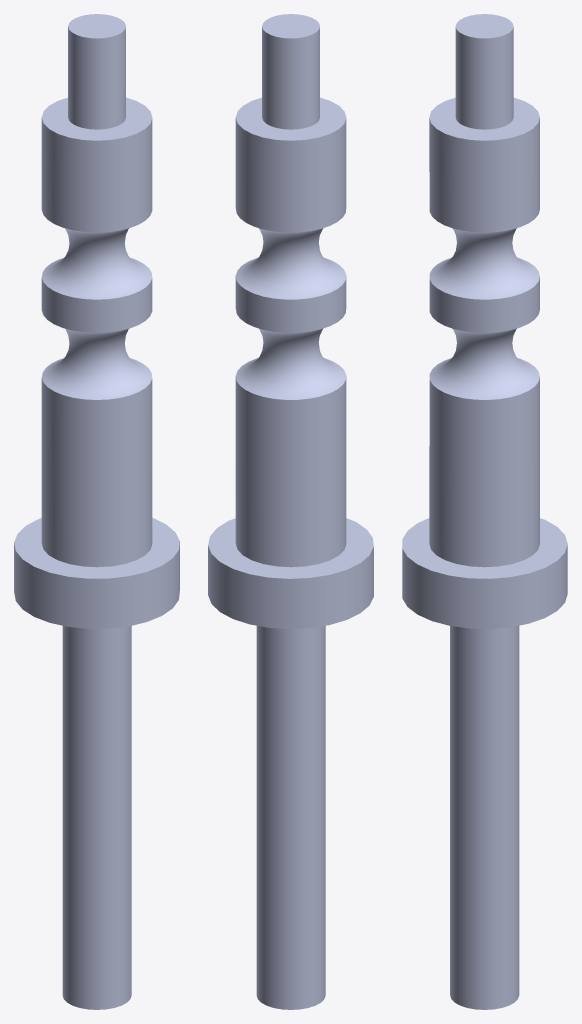
File: Post-Dual Ring 8-32 Thread at Bottom, 6-32 at top (02-4423).fbx
3 views of the same model, side by side, from view 1: azimuth 30°, elevation 25°; view 2: azimuth 150°, elevation 25°; view 3: azimuth 270°, elevation 25° (orthographic).
Visible parts, largest first — view 1: Post-Dual Ring 8-32 Thread at Bottom, 6-32 at top (02-4423); view 2: Post-Dual Ring 8-32 Thread at Bottom, 6-32 at top (02-4423); view 3: Post-Dual Ring 8-32 Thread at Bottom, 6-32 at top (02-4423).
Part boxes in pixels (left/top/right/bottom): Post-Dual Ring 8-32 Thread at Bottom, 6-32 at top (02-4423): left=14, top=14, right=179, bottom=1009; Post-Dual Ring 8-32 Thread at Bottom, 6-32 at top (02-4423): left=208, top=14, right=373, bottom=1009; Post-Dual Ring 8-32 Thread at Bottom, 6-32 at top (02-4423): left=402, top=14, right=567, bottom=1009.
Size of the model in its own units: 0.9506 by 6.13 by 0.9487.
